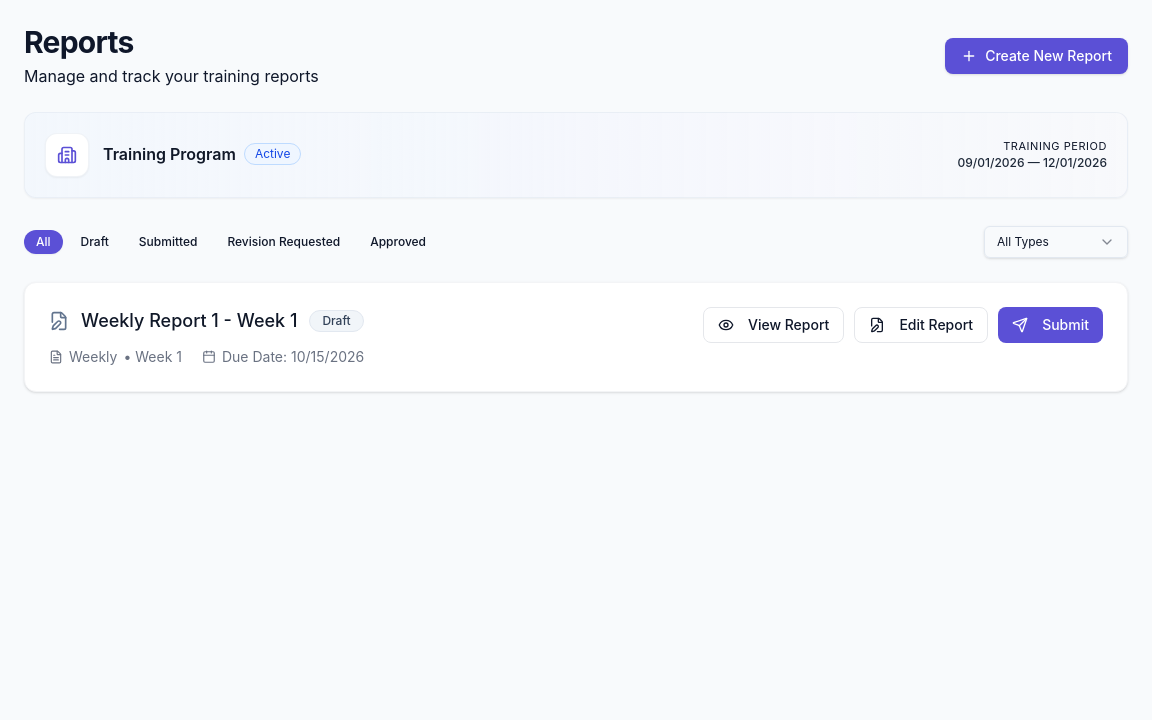
Test: ReportsPage › renders submit button for draft report and opens confirmation dialog
Click the button "Submit". click: (1051,325)
box: [998,307,1103,343]
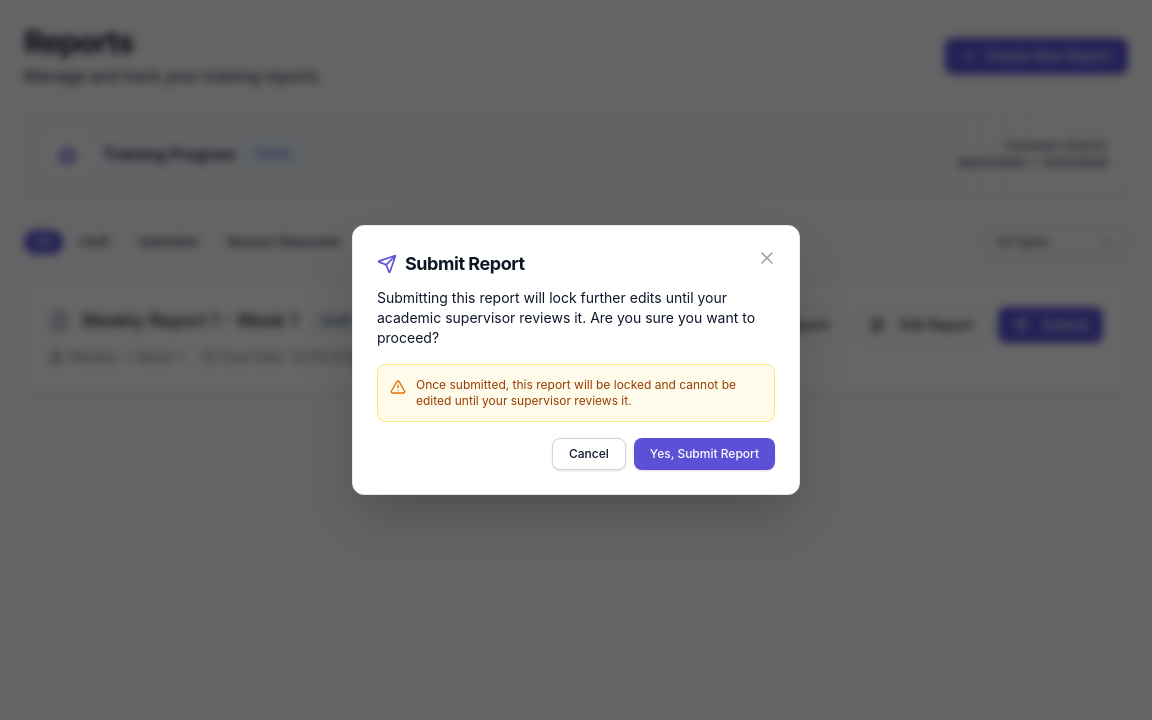
Expected: the dialog is shown, [352,225,800,495]
Expected: the button "Yes, Submit Report" is shown, [634,438,775,470]
